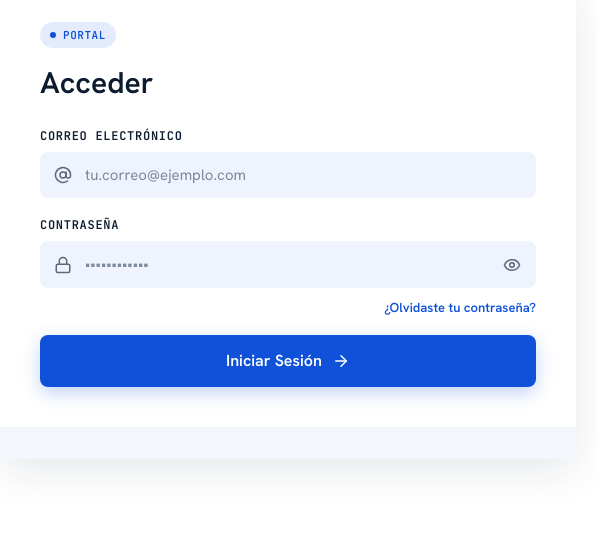
inicio de sesión › muestra el error de credenciales y permite reintentar
The width and height of the screenshot is (597, 557).
In the field labelled "Correo electrónico": [288, 175] box [40,152,536,198], type "ana@demo.pe"
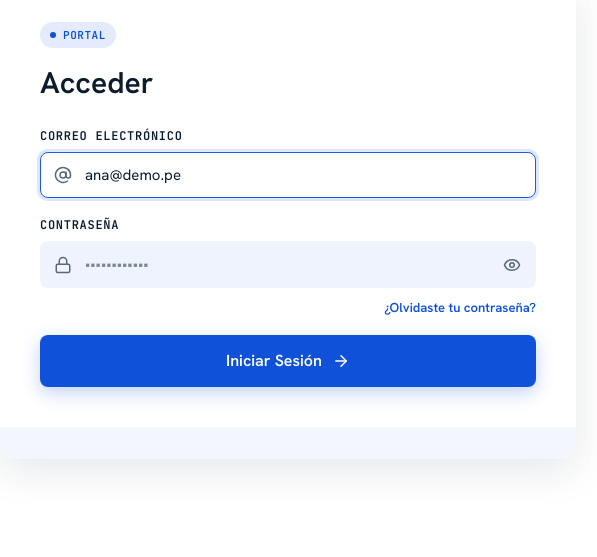
In the password field labelled "Contraseña": [288, 265] box [40,241,536,288], type "mala"
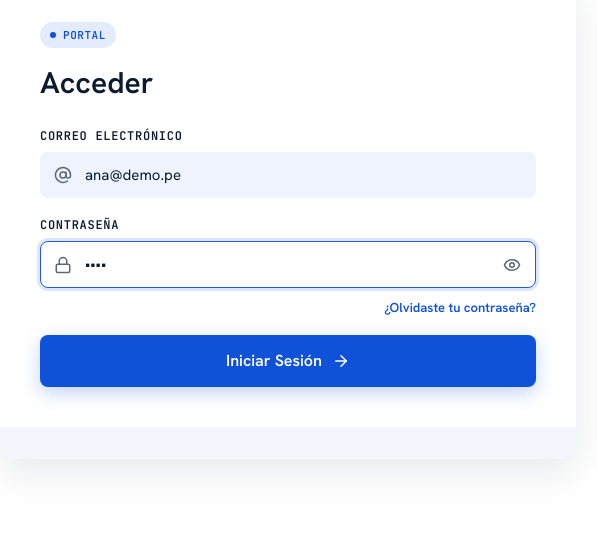
Click the button "Iniciar Sesión": [288, 361] box [40,335,536,387]
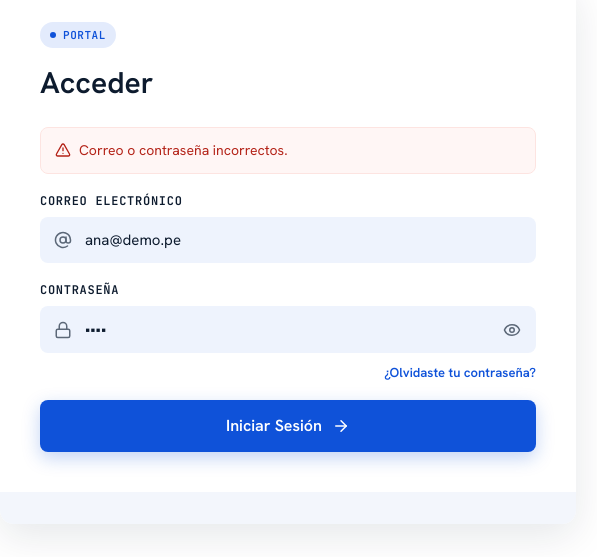
Check: the button "Iniciar Sesión" is enabled, box [40,400,536,452]
Check: the message reads "Correo o contraseña incorrectos.", box [79,141,288,159]
